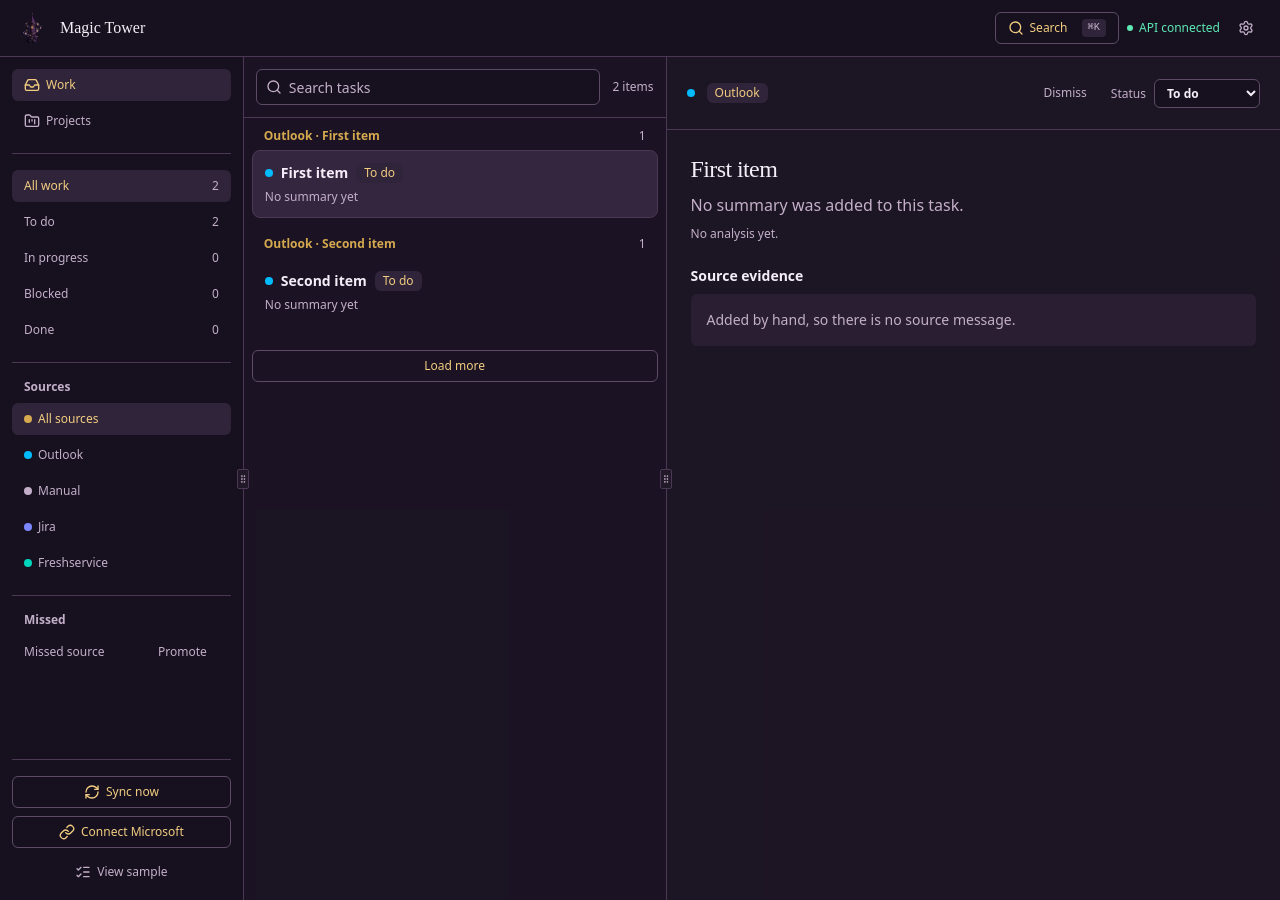
Pagination › pagination is not offered once the sample queue replaces the real one
Check: the button "Load more" is shown, box [252,350,658,382]
Click the button "View sample".
click(121, 872)  # box [12,856,231,888]
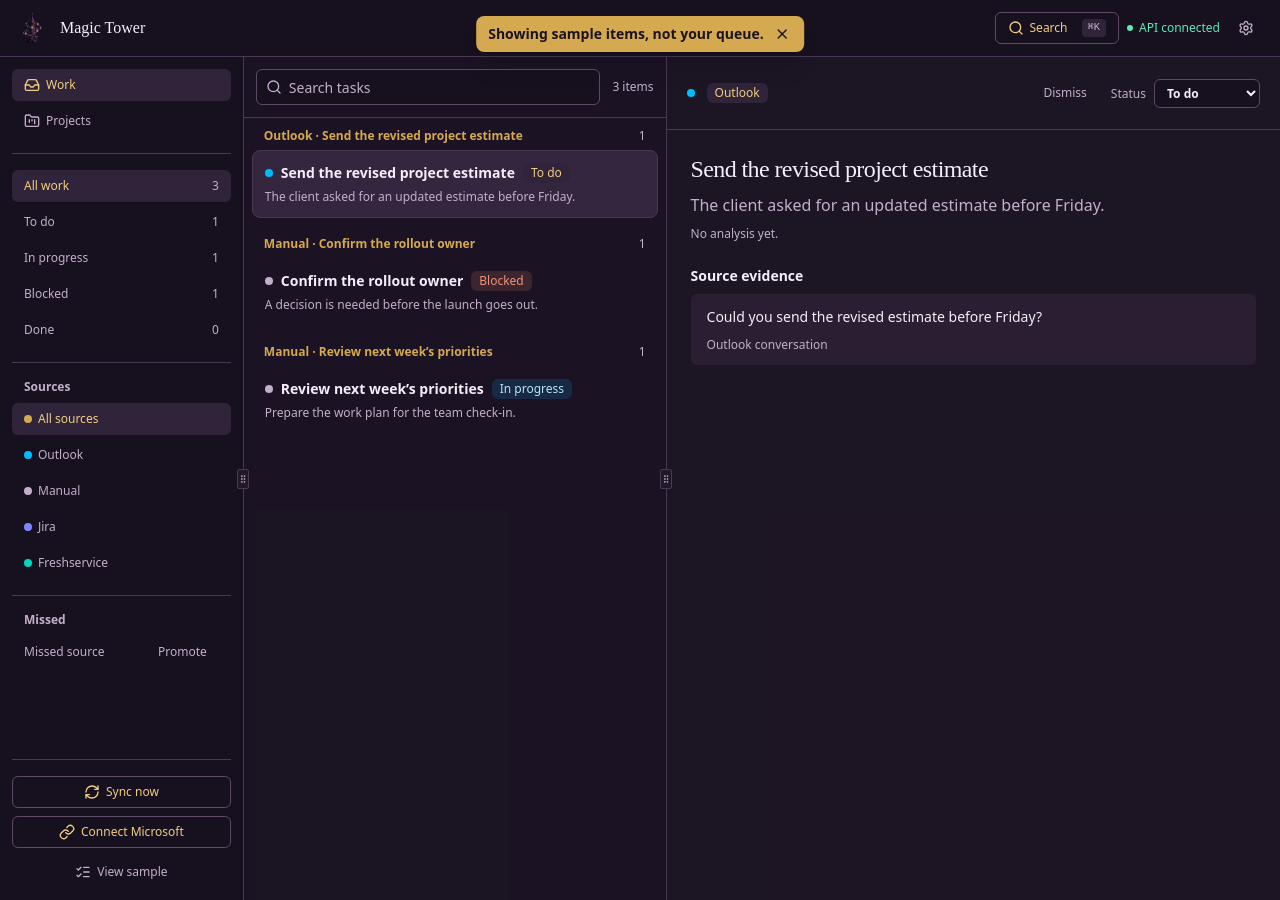
Check: the text "Send the revised project estimate" is shown, box [281,163,515,183]
Check: the button "Load more" is gone
